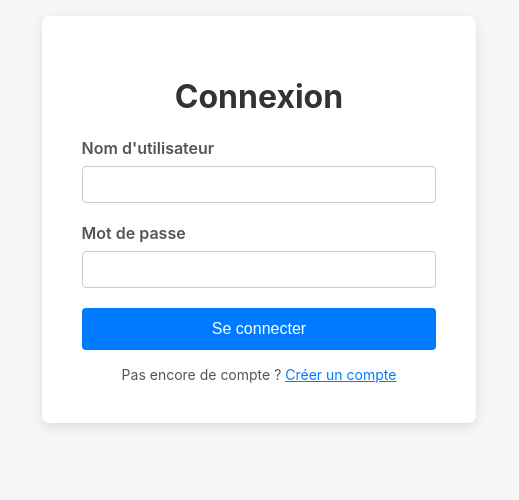
mauvais identifiants : le message de l'API est affiché (bug B3)
The image size is (519, 500).
Type "alice" into the field labelled "Nom d'utilisateur" at (259, 184), box [82,166,436,203]
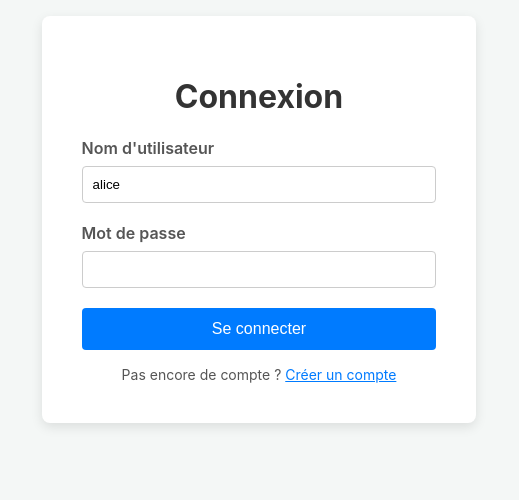
Type "mauvais" into the password field labelled "Mot de passe" at (259, 269), box [82,251,436,288]
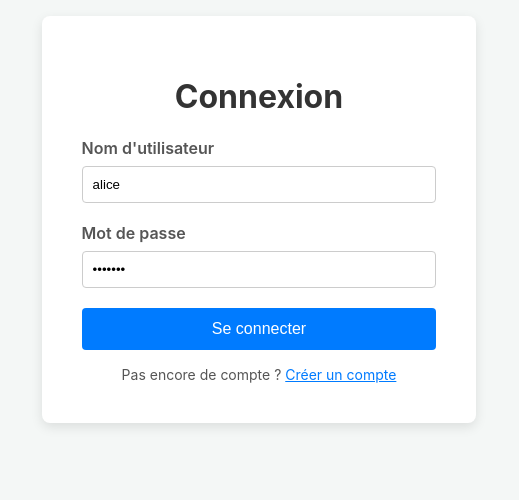
Click the button "Se connecter" at (259, 329), box [82,308,436,350]
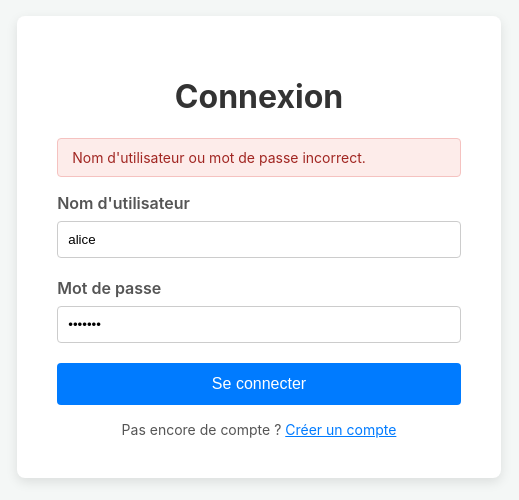
Expected: the message reads "Nom d'utilisateur ou mot de passe incorrect.", [72,149,366,166]
